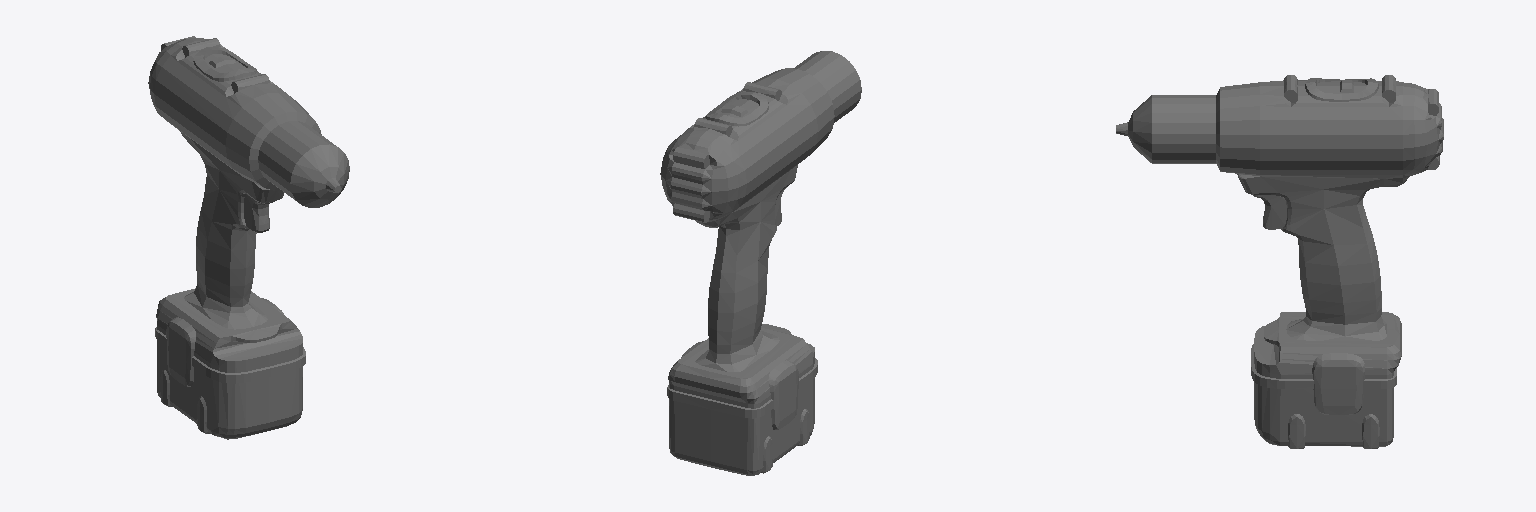
Rendered from Drill_Unity.obj.
3 views of the same model, side by side, from view 1: azimuth 30°, elevation 25°; view 2: azimuth 150°, elevation 25°; view 3: azimuth 270°, elevation 25° (orthographic).
Size of the model in its own units: 0.1132 by 0.3821 by 0.3269.